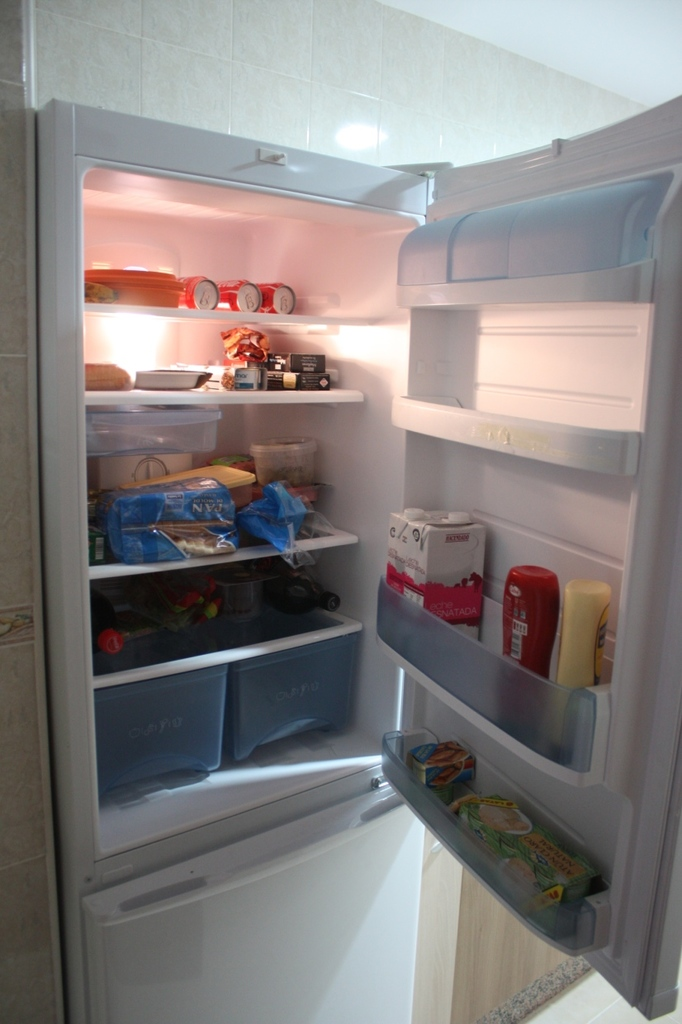handle: (102, 869, 210, 907), (360, 795, 423, 835)
refrigerator door: (437, 202, 682, 896), (91, 858, 423, 1024)
